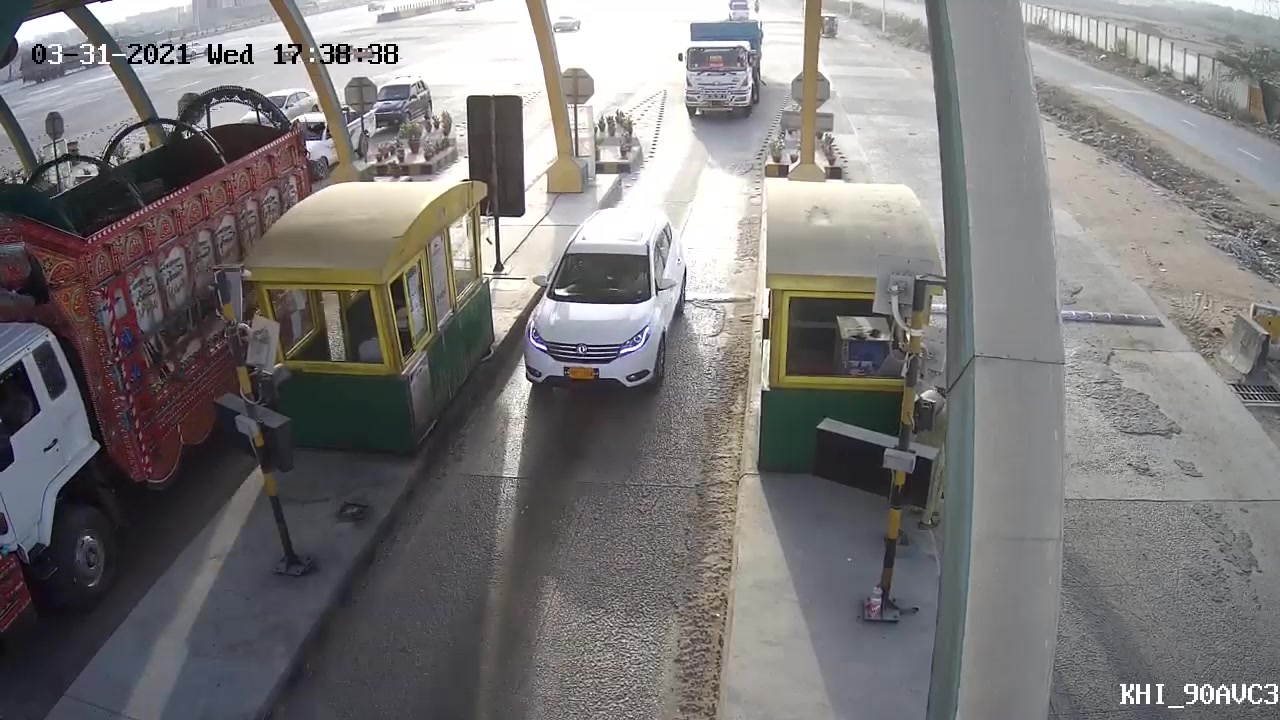F1: (512, 204, 700, 401)
